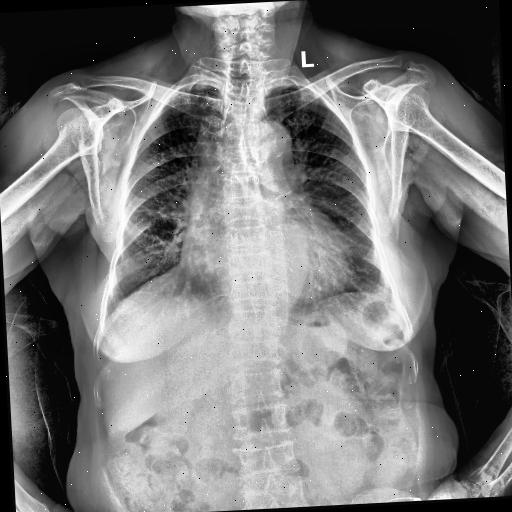0- Aortic enlargement: (240, 118, 298, 182), (238, 116, 295, 176), (236, 120, 293, 166)
11- Pleural thickening: (266, 82, 310, 94), (180, 82, 216, 94)
3- Cardiomegaly: (176, 230, 360, 309), (179, 221, 356, 299), (178, 236, 352, 310)
